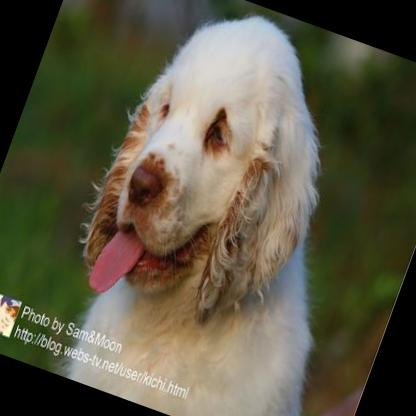clumber: (23, 0, 416, 416)
